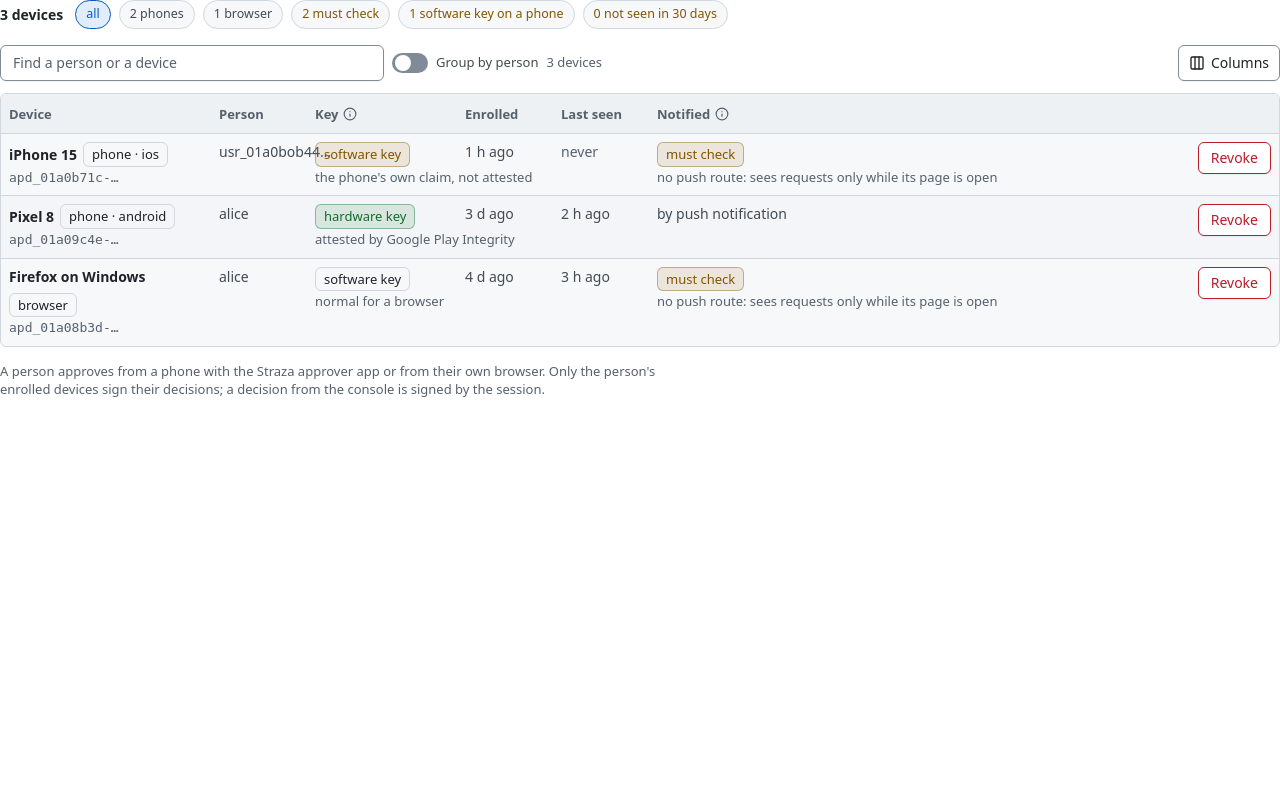
Test case: the approver devices tab › asks with the device and the person named, and writes nothing until the verb
Click the button with aria-label "Revoke Firefox on Windows". click: (1234,282)
box: [1198,266,1271,298]
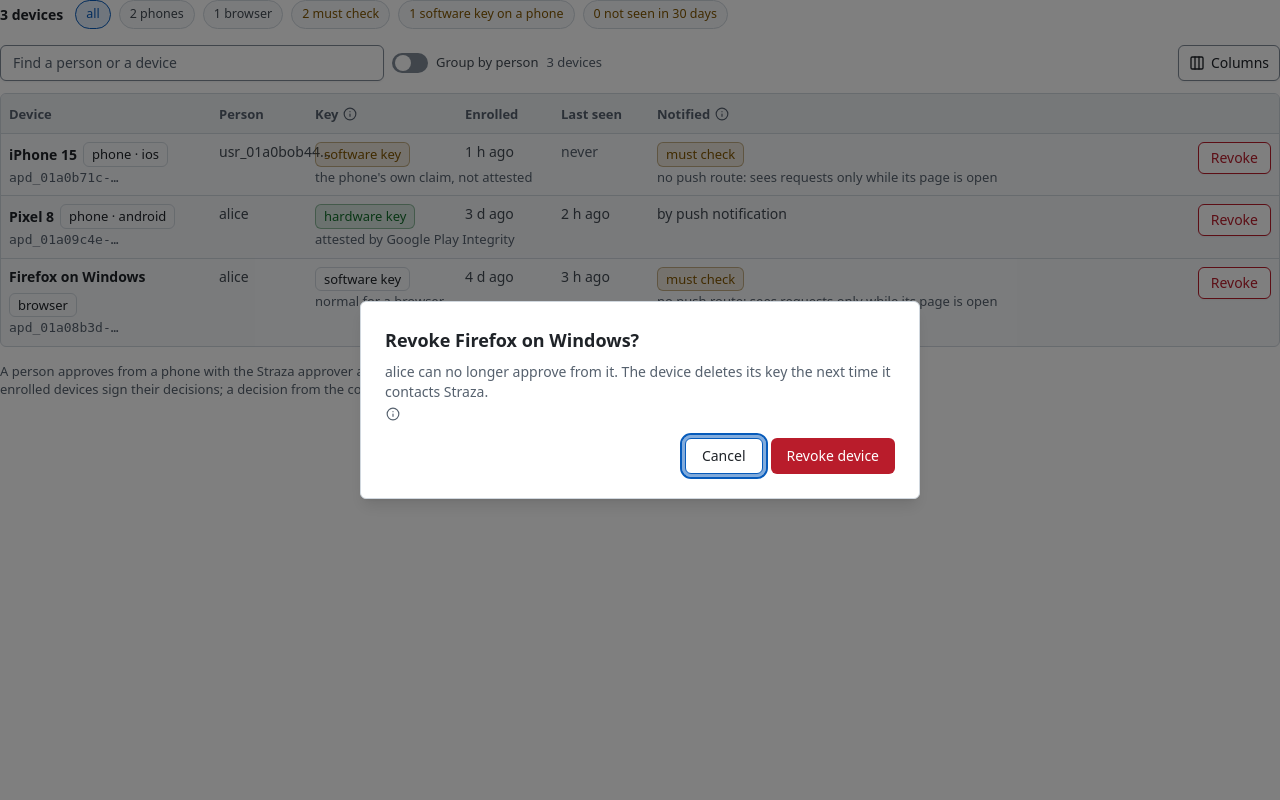
Click the button "Cancel". click: (724,456)
box: [685,438,762,474]
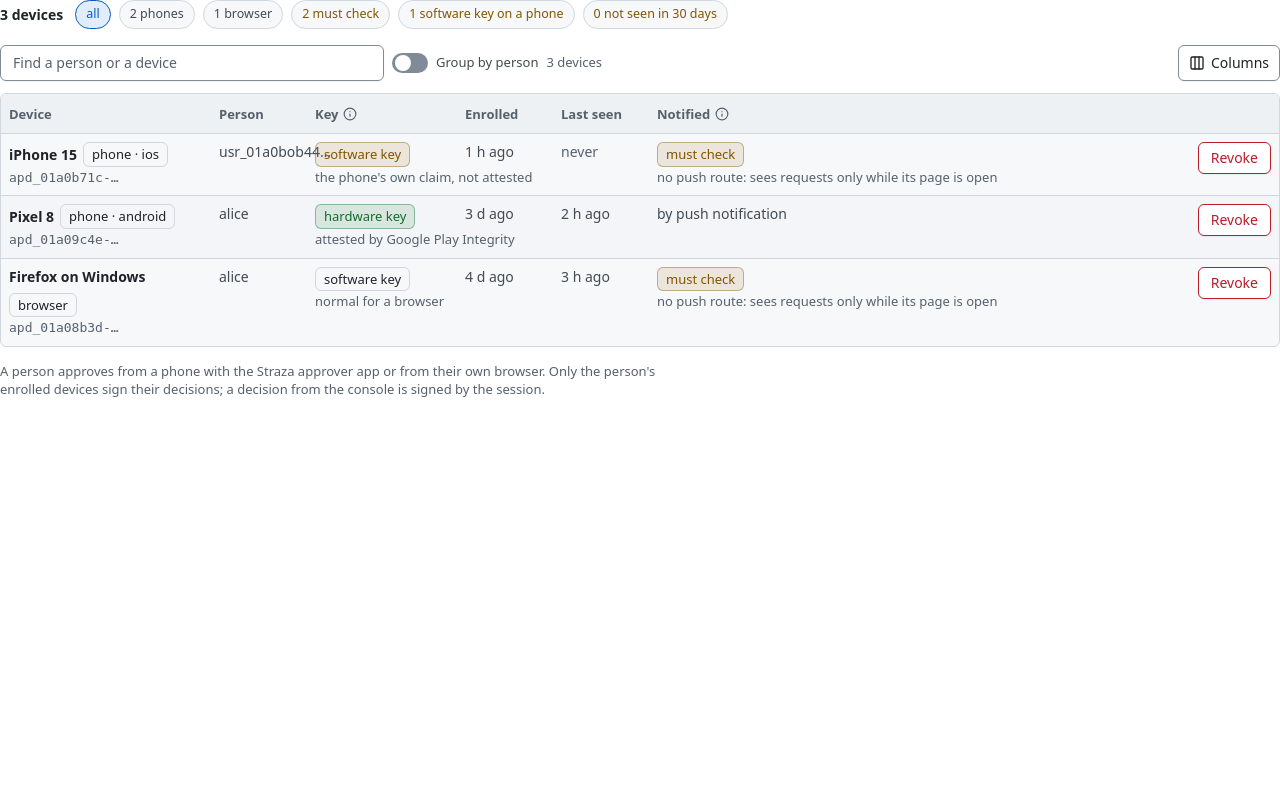
Check: the dialog is gone
